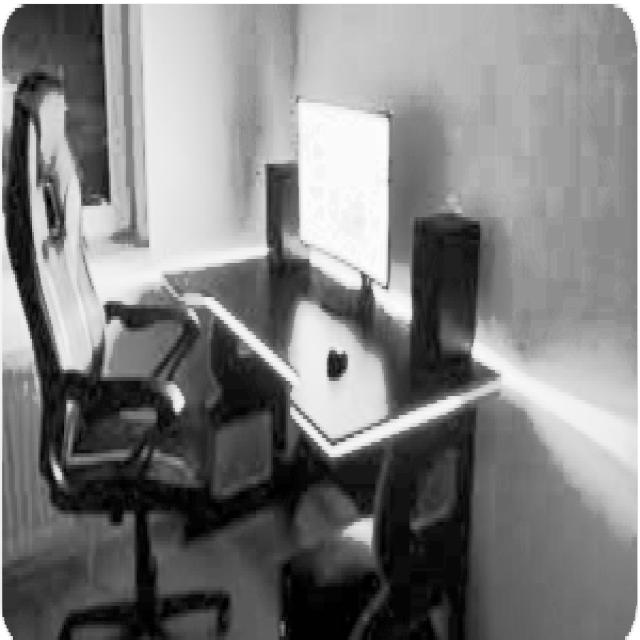book: (2, 83, 228, 624)
table: (155, 250, 499, 637)
